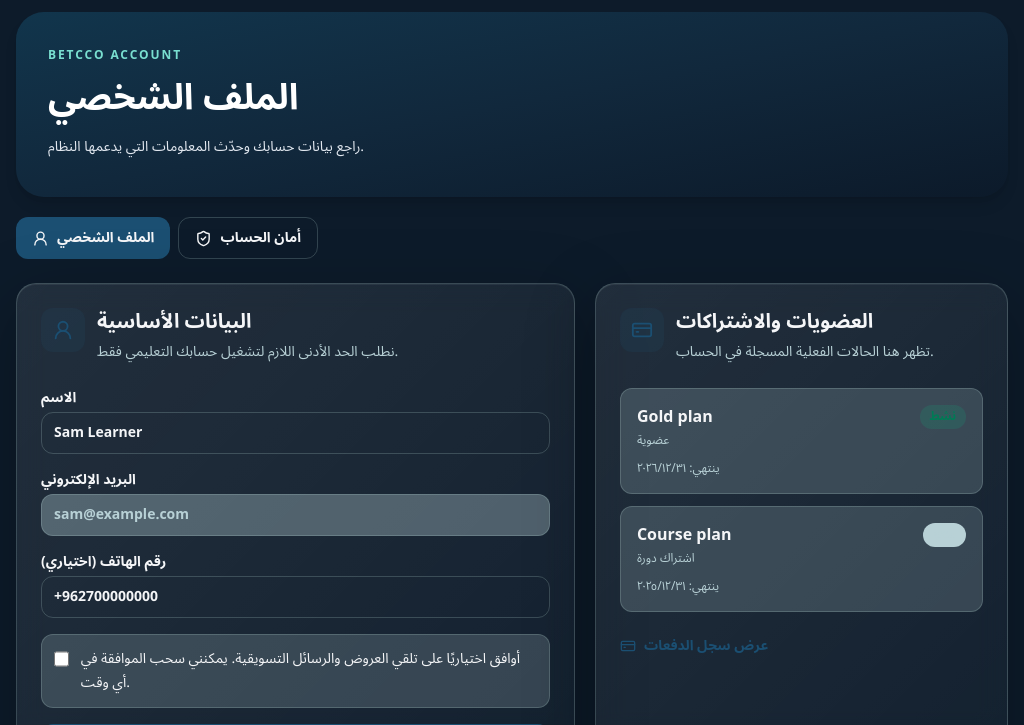
it: student account, purchases, and organizer in ar › renders account copy and preserves profile update payload
Expected: the heading "البيانات الأساسية" is shown, top-left (97, 301), bottom-right (251, 343)
Expected: the field labelled "رقم الهاتف (اختياري)" is shown, top-left (41, 576), bottom-right (550, 618)
Replace the text in the field labelled "الاسم" with "  New Learner  " at (295, 433), box top-left (41, 412), bottom-right (550, 454)
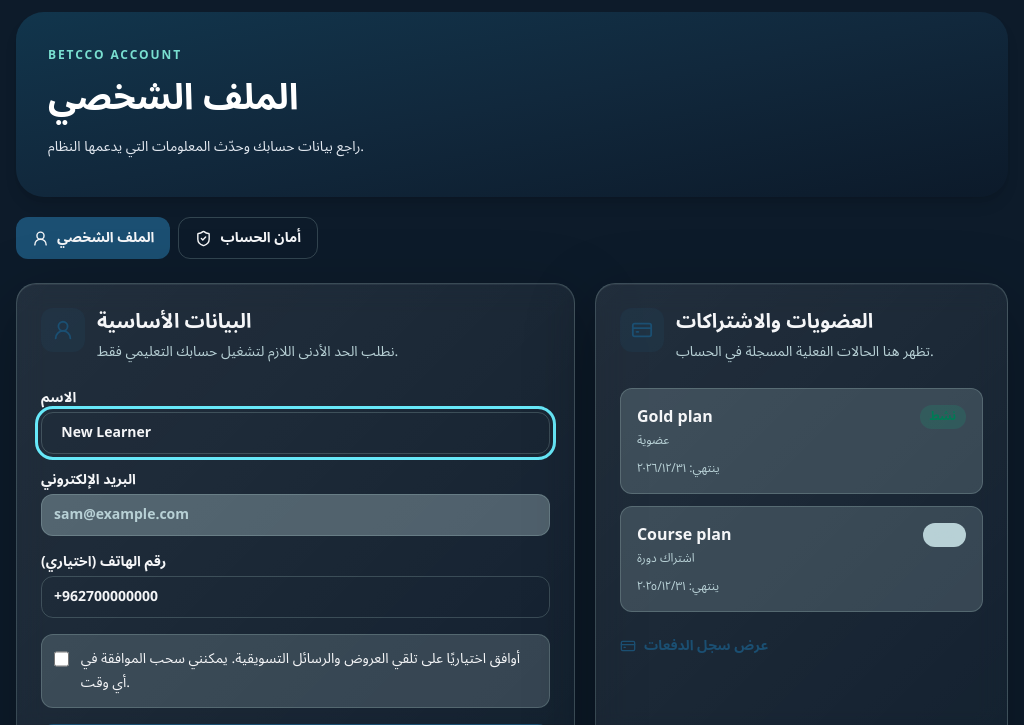
Clear the field labelled "رقم الهاتف (اختياري)" at (295, 597), box top-left (41, 576), bottom-right (550, 618)
(page scrolled)
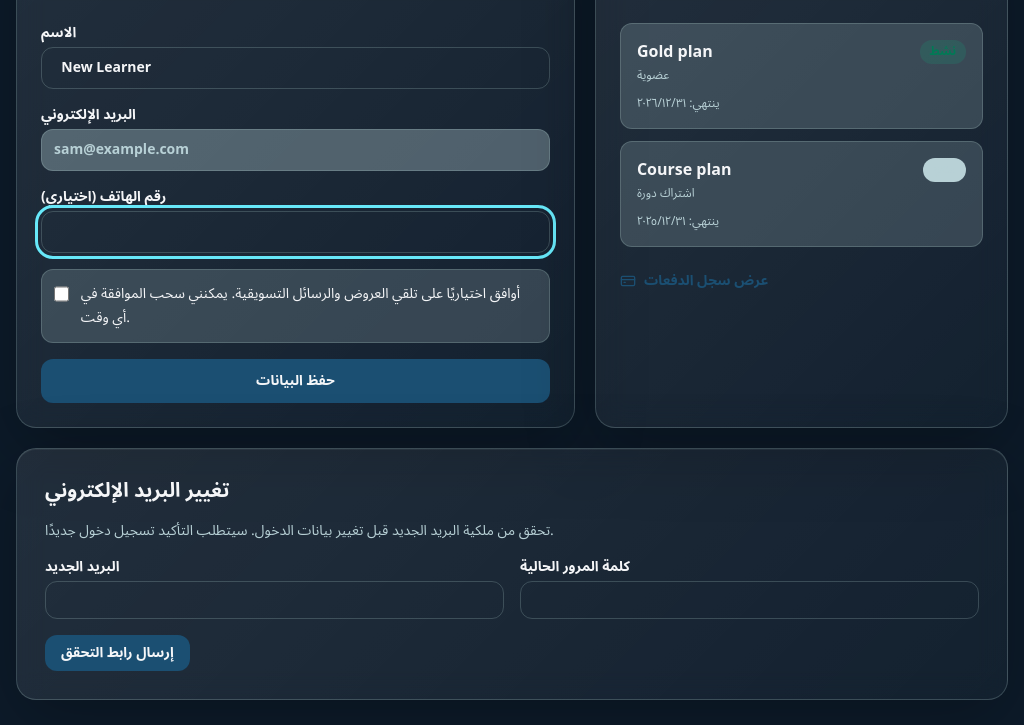
Click the button "حفظ البيانات" at (295, 381), box top-left (41, 359), bottom-right (550, 403)
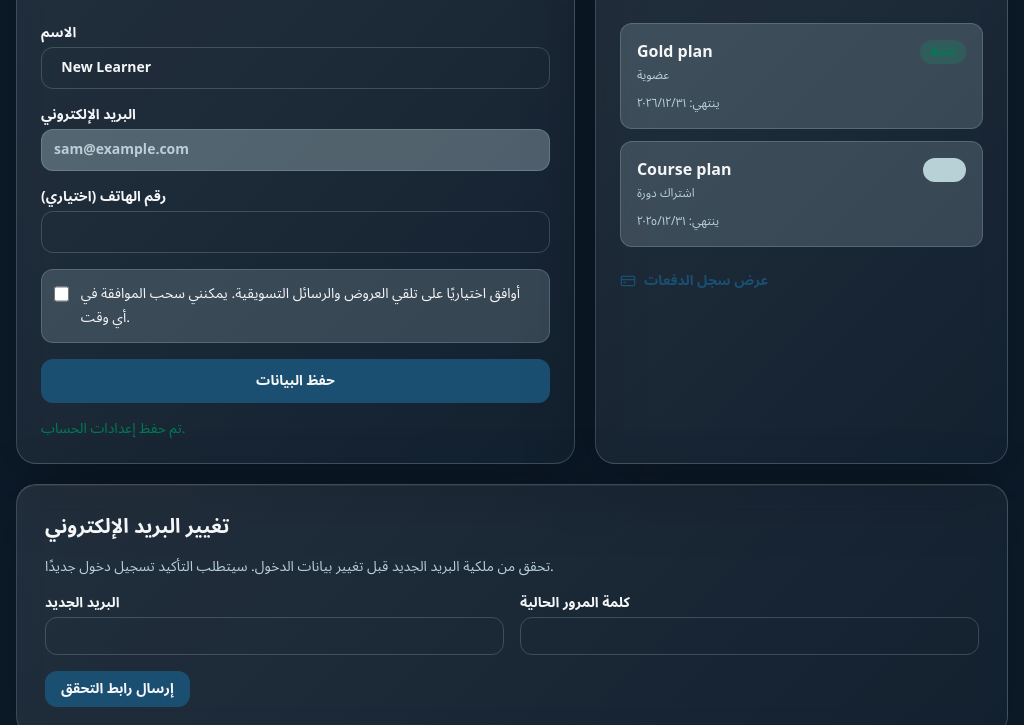
Expected: the message reads "تم حفظ إعدادات الحساب.", top-left (41, 414), bottom-right (185, 443)
